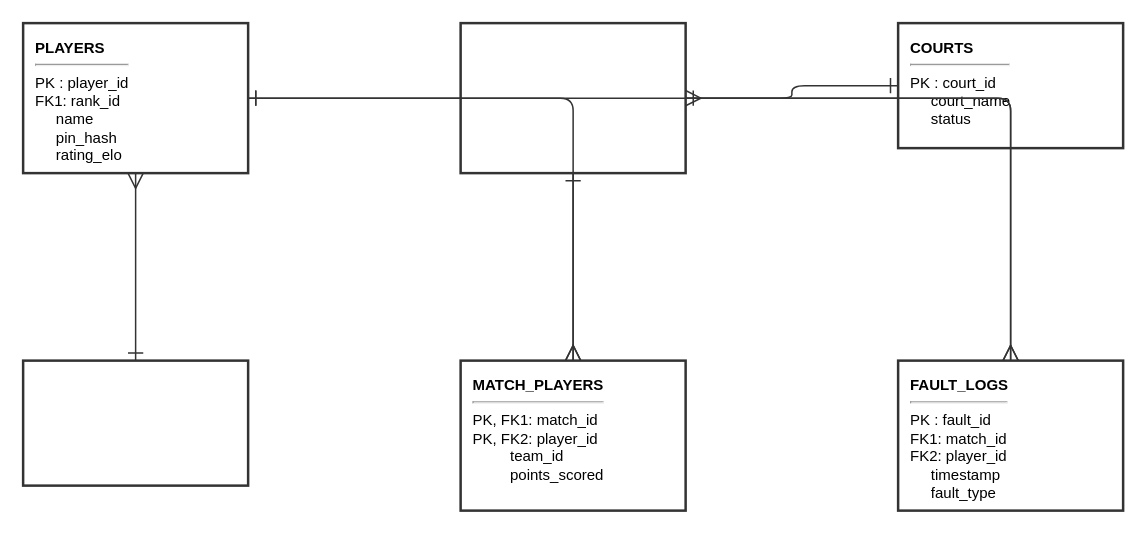
The diagram is 1145 pixels wide and 533 high, and some of its shapes have lost their labels. Here are the shapes that lost their labels. From the top down, the centre of each, then its label:
At (x=572, y=97): "MATCHES PK : match_id FK1: court_id scheduled_at completed_at status".
At (x=135, y=422): "RANKS PK : rank_id rank_name threshold_elo".
